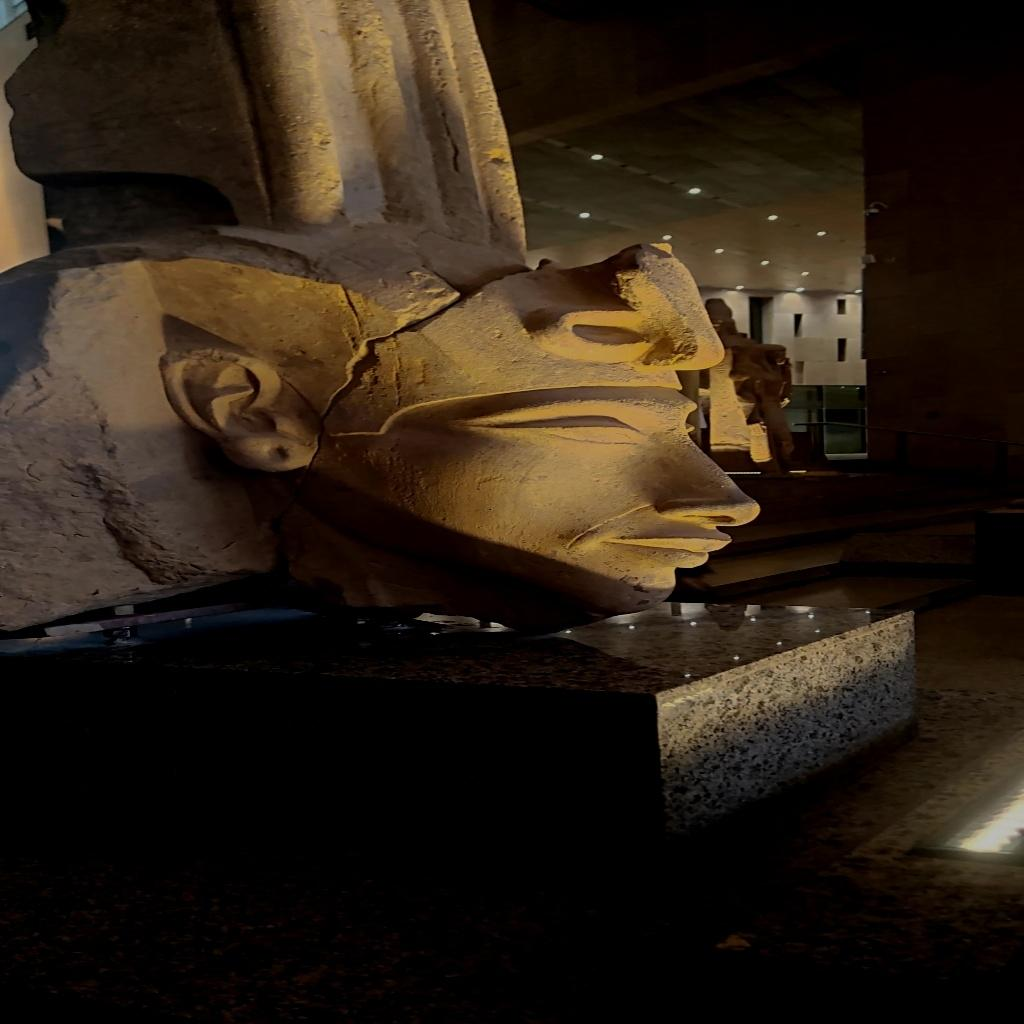Statue Head of Akhenaten: (0, 223, 768, 635)
